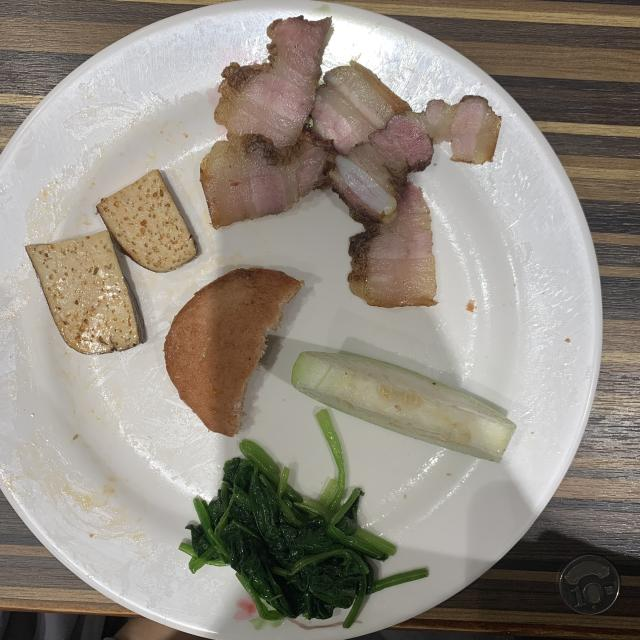Spam: (164, 269, 302, 436)
coin: (559, 555, 620, 615)
firm tofu: (26, 170, 198, 354)
grilled pork: (200, 16, 500, 308)
guava -sliced-: (291, 351, 516, 461)
mustard greens: (180, 410, 428, 628)
